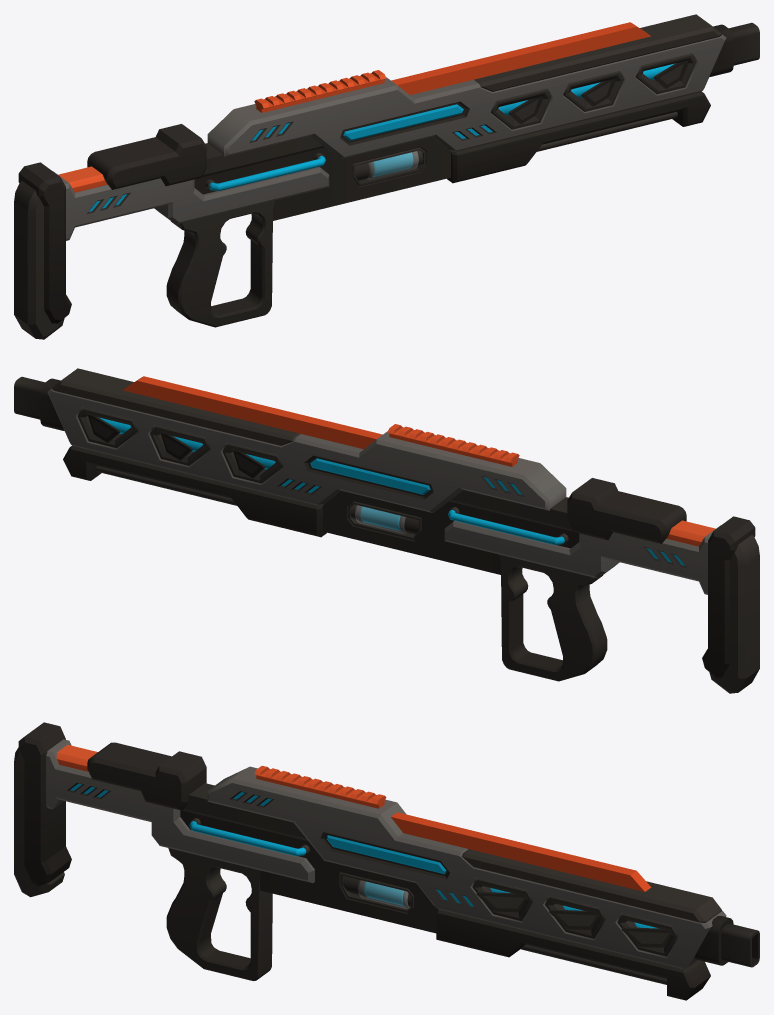
3 views of the same model, one above another, from view 1: azimuth 30°, elevation 25°; view 2: azimuth 150°, elevation 25°; view 3: azimuth 330°, elevation 25° (orthographic).
Visible parts, largest first — view 1: MG3_Base; view 2: MG3_Base; view 3: MG3_Base.
Boxes of the visible parts, <box> form: MG3_Base: <box>14,14,759,339</box>; MG3_Base: <box>14,368,759,693</box>; MG3_Base: <box>14,722,759,1000</box>.
Size of the model in its own units: 118 by 32.11 by 9.61.
